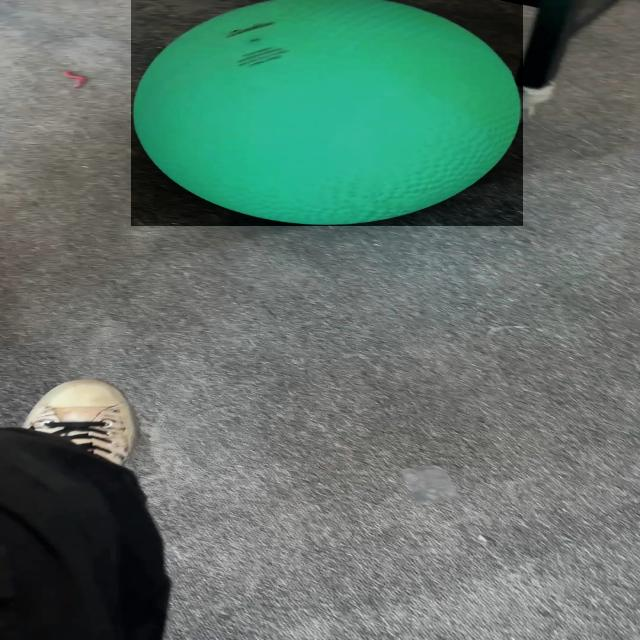Algae: (131, 0, 523, 226)
